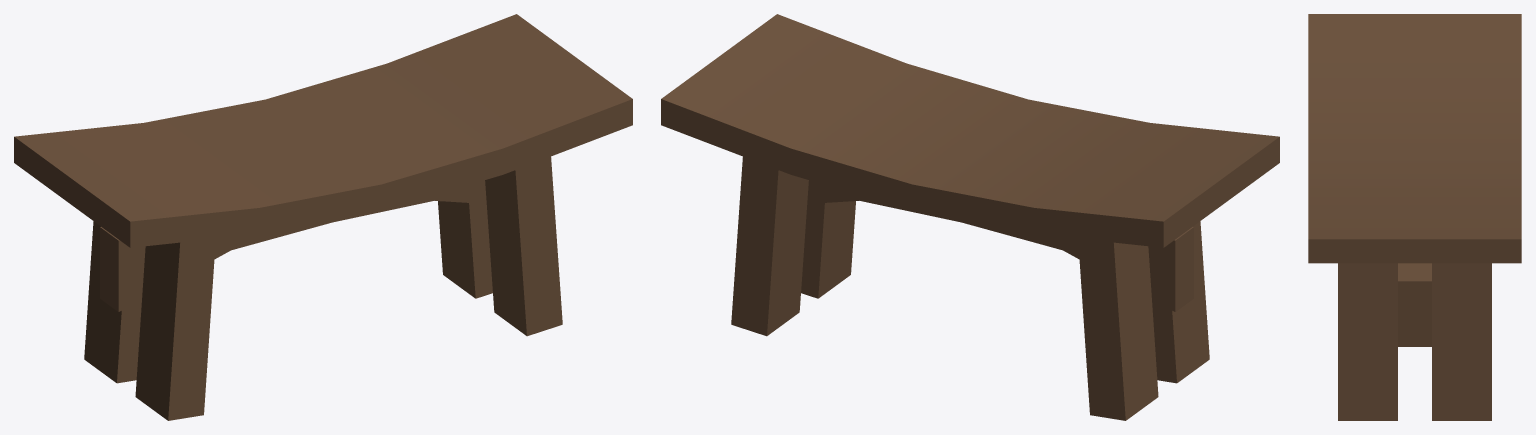
File: Bench.fbx
The picture shows the model from 3 angles, left to right: view 1: azimuth 30°, elevation 25°; view 2: azimuth 150°, elevation 25°; view 3: azimuth 270°, elevation 25°; orthographic projection. The views are drawn at different scales.
Parts seen in each view (by area): view 1: bench.001; view 2: bench.001; view 3: bench.001.
Part boxes in pixels (bbox=[...]): bench.001: bbox=[14, 14, 632, 420]; bench.001: bbox=[661, 14, 1279, 420]; bench.001: bbox=[1308, 14, 1521, 420].
Size of the model in its own units: 100 by 43.2 by 40.
